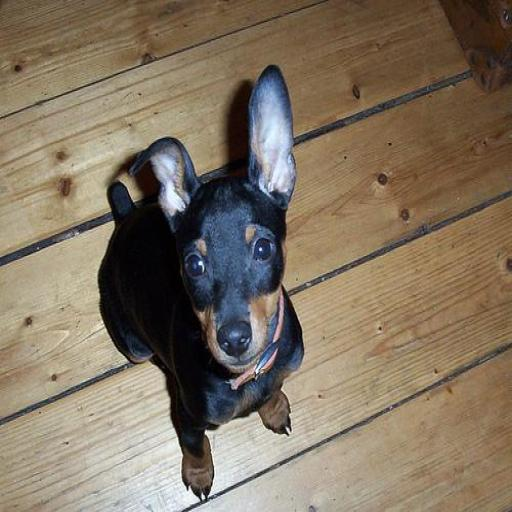dog_face: (128, 66, 290, 375)
